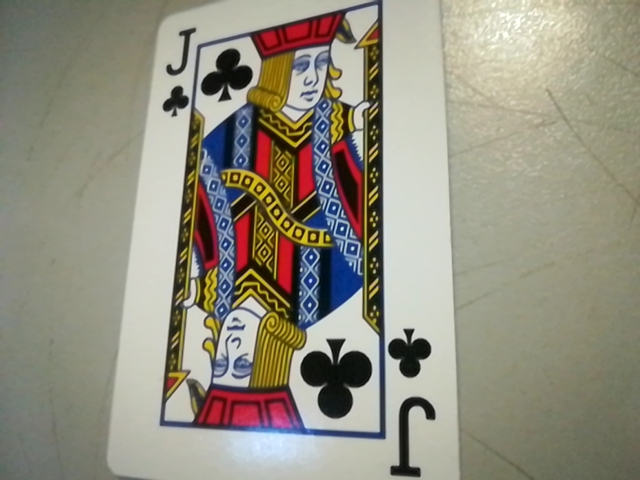mh j: (379, 323, 448, 476)
